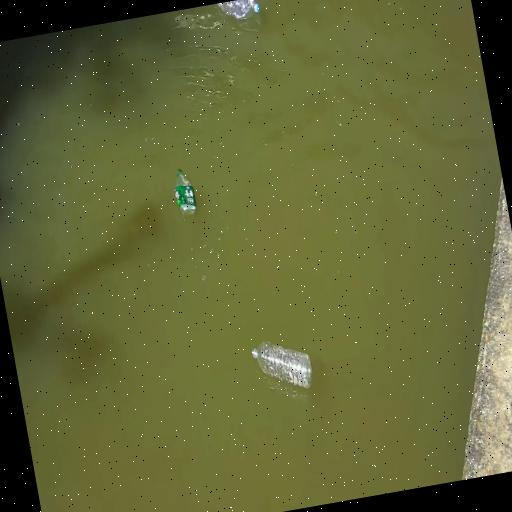plastic: (248, 332, 316, 398), (170, 166, 200, 222), (214, 0, 261, 24)
